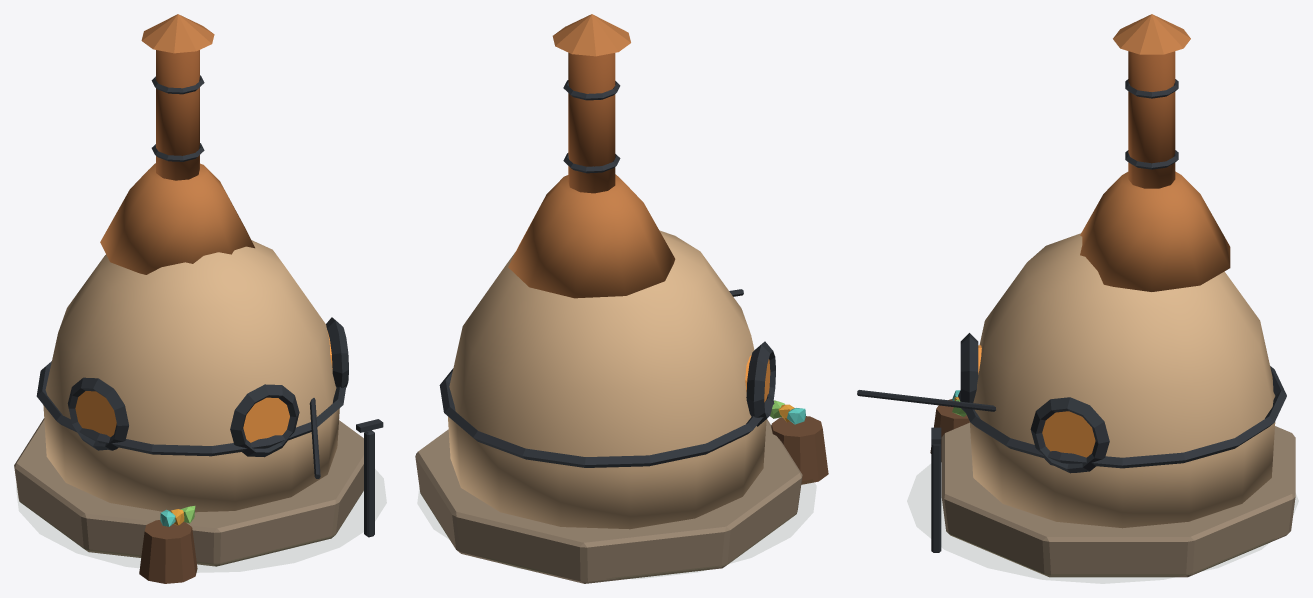
The model's file is glass_furnace.glb.
3 renders of one model, left to right at view 1: azimuth 30°, elevation 25°; view 2: azimuth 150°, elevation 25°; view 3: azimuth 270°, elevation 25°, orthographic. The views are drawn at different scales.
Visible parts, largest first — view 1: glass_furnace; view 2: glass_furnace; view 3: glass_furnace.
Part boxes in pixels (box(x1,y1,x2,y2)): glass_furnace: box(14, 14, 383, 583); glass_furnace: box(415, 14, 828, 583); glass_furnace: box(857, 14, 1295, 577).
Size of the model in its own units: 2 by 2.77 by 2.25.
